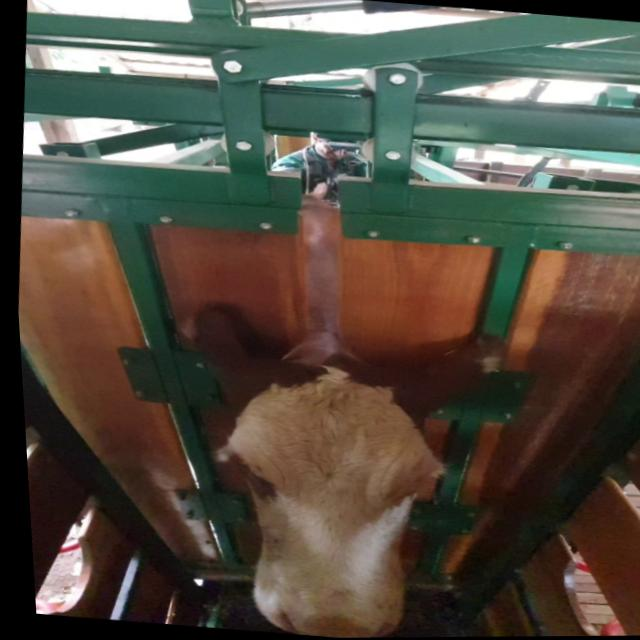cowFace: (205, 363, 445, 639)
